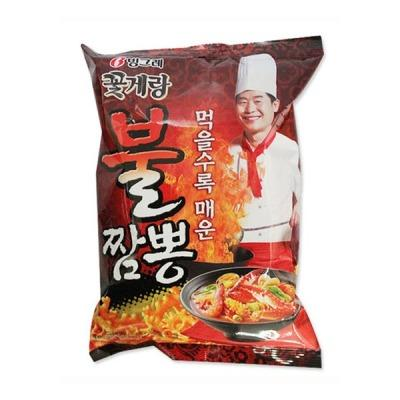snack: (80, 32, 326, 369)
